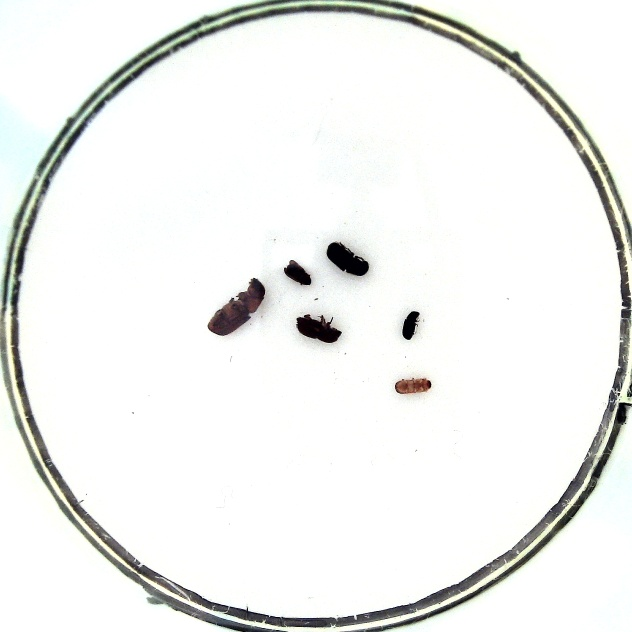acuminatus: (402, 311, 420, 339)
armandi: (327, 242, 369, 276)
coleoptera: (284, 260, 311, 286), (395, 379, 431, 394)
leconte: (207, 278, 265, 335)
linnaeus: (295, 317, 342, 343)
